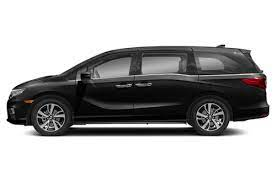Honda: (7, 40, 271, 136)
